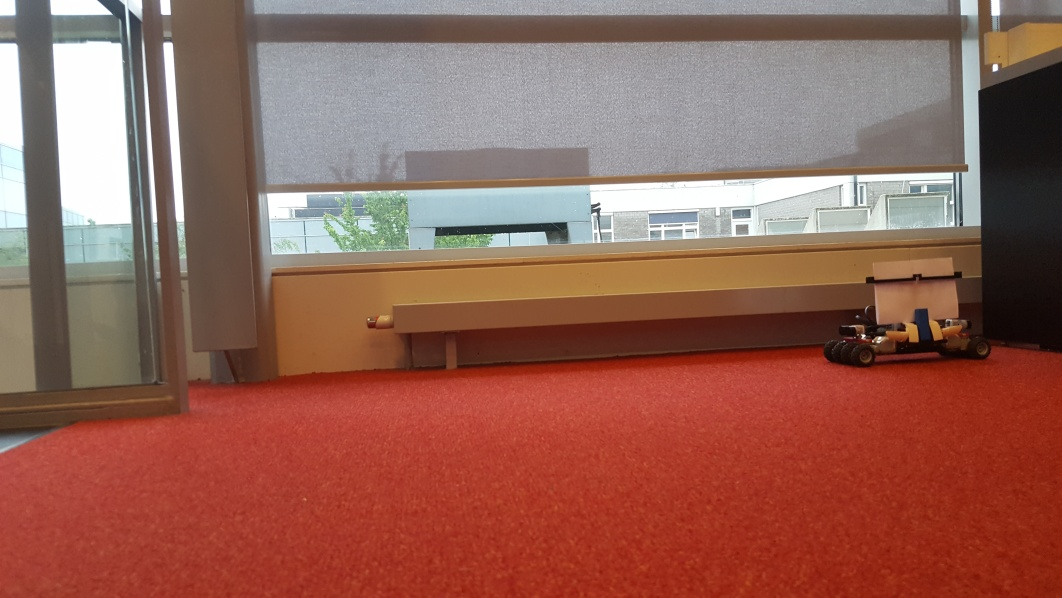car: (821, 254, 993, 367)
